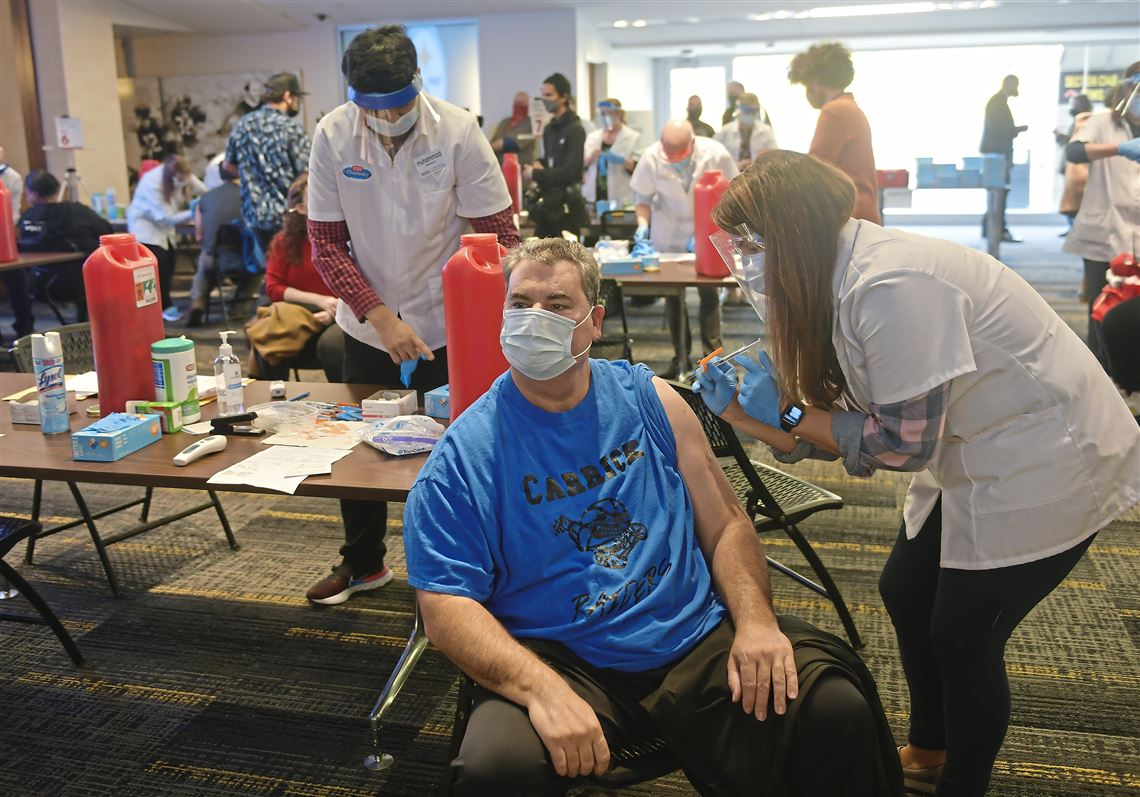with_mask: (723, 216, 809, 322), (509, 277, 574, 363), (366, 79, 417, 145), (602, 95, 622, 133), (543, 80, 562, 114)
